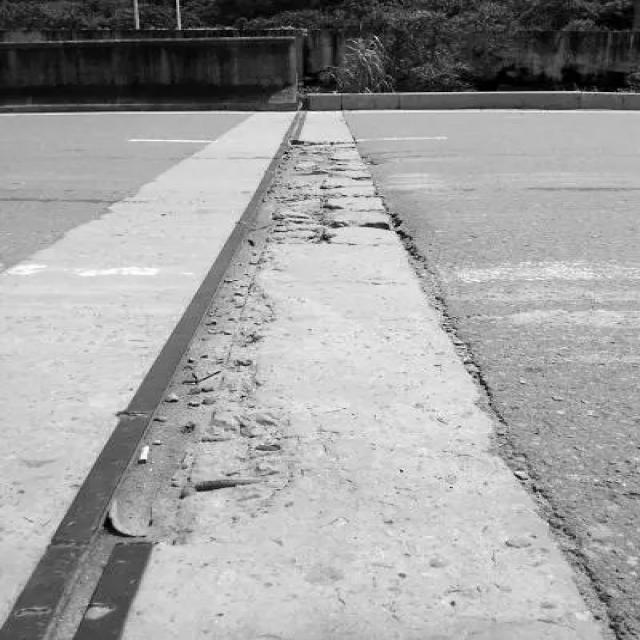Pothole: (248, 139, 421, 252)
